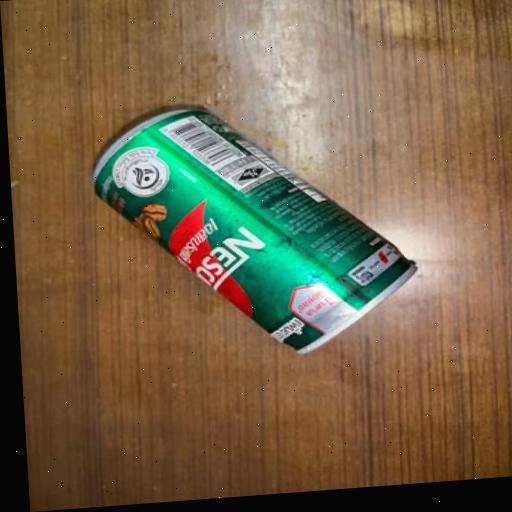canned: (68, 70, 469, 393)
